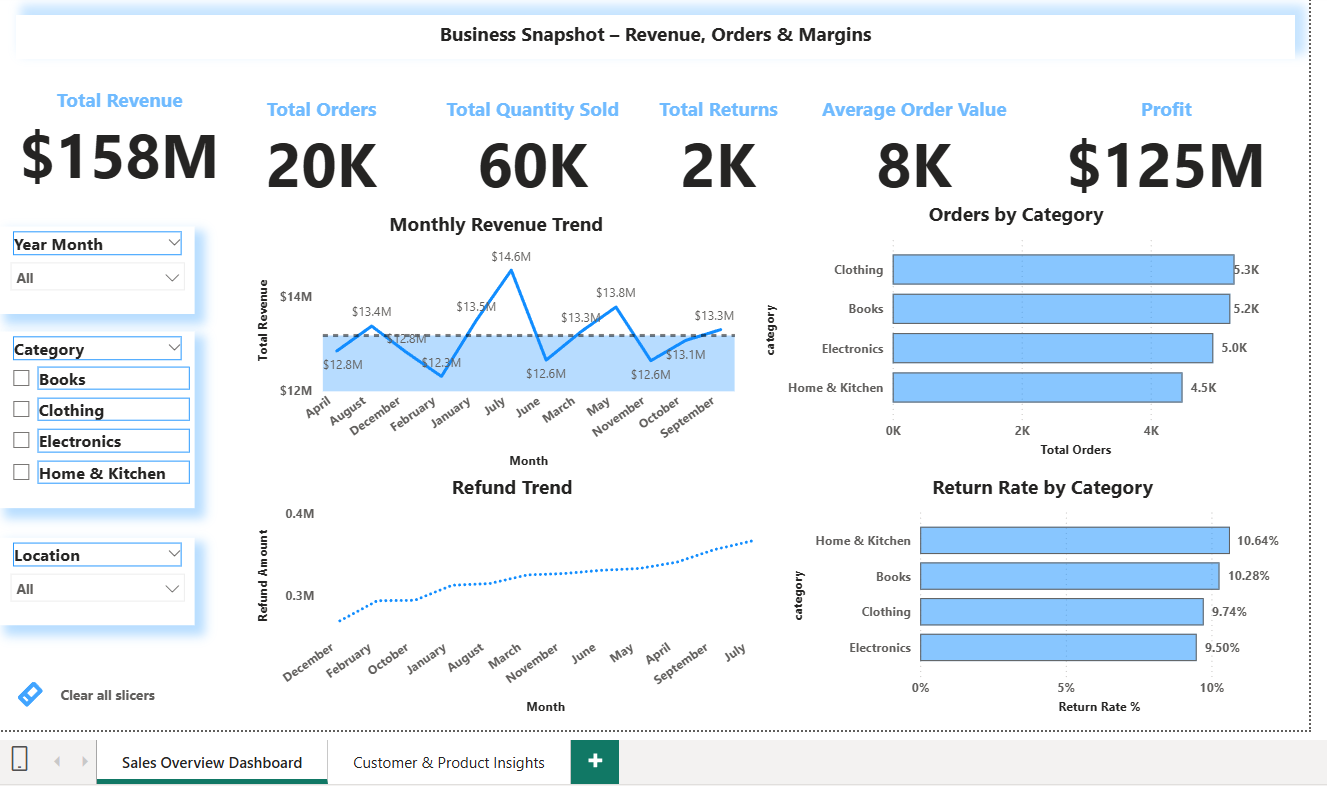

What the dashboard file says about the page in this screenshot:
{"tool":"powerbi","page":{"name":"Sales Overview Dashboard","canvas":[1280,720],"ordinal":0},"visuals":[{"type":"card","title":"Total Revenue","fields":{"Values":["Measure.Total Revenue"]},"box":[13.4,90.4,207.4,102.9],"z":0,"group":"g1"},{"type":"lineChart","title":"Monthly Revenue Trend","fields":{"Y":["Measure.Total Revenue"],"Category":["DateTable.Years Hierarchy.Month"]},"box":[246.9,211.6,476.8,257.4],"z":0},{"type":"card","title":"Total Returns","fields":{"Values":["Measure.Total Returns"]},"box":[616.2,99.3,173,102.5],"z":1000,"group":"g1"},{"type":"barChart","title":"Orders by Category","fields":{"Category":["products.category"],"Y":["Measure.Total Orders"]},"box":[743.5,201.8,501.4,256.8],"z":1000},{"type":"card","title":"Total Orders","fields":{"Values":["Measure.Total Orders"]},"box":[220.5,99.3,189,102.5],"z":2000,"group":"g1"},{"type":"barChart","title":"Return Rate by Category","fields":{"Category":["products.category"],"Y":["Measure.Return Rate %"]},"box":[770.8,469,499,240.4],"z":2000},{"type":"card","title":" Profit","fields":{"Values":["Measure.Profit"]},"box":[1016.7,99.3,249.9,102.5],"z":3000,"group":"g1"},{"type":"lineChart","title":"Refund Trend","fields":{"Category":["DateTable.Years Hierarchy.Month"],"Y":["Sum(returns.refund_amount)"]},"box":[246.9,469,508.2,240.4],"z":3000},{"type":"card","title":"Total Quantity Sold","fields":{"Values":["Measure.Total Quantity Sold"]},"box":[427.1,99.3,189,102.5],"z":4000,"group":"g1"},{"type":"slicer","fields":{"Values":["DateTable.Year-Month"]},"box":[0,227.4,190.8,85.6],"z":4000},{"type":"card","title":"Average Order Value","fields":{"Values":["Measure.Average Order Value"]},"box":[789.2,99.3,211.5,102.5],"z":5000,"group":"g1"},{"type":"slicer","fields":{"Values":["customers.location"]},"box":[0,531.9,190.8,85.6],"z":5000},{"type":"slicer","fields":{"Values":["products.category"]},"box":[0,330.2,190.8,172.4],"z":6000},{"type":"actionButton","box":[5.1,660.6,200.6,49.8],"z":7000},{"type":"textbox","box":[4.9,47.7,1246.1,31.8],"z":8000},{"type":"group","id":"g1","title":"KPIs","box":[13.4,90.4,1253.2,111.4],"z":9000}]}

Visuals, with their boxes on the page's 1280x720 design canvas (x1, y1, x2, y2). These are canvas units, not pixel positions in the 1327x786 screenshot, which may show the page scaled, cropped or inside an application window:
"Total Revenue" card: [13, 90, 221, 193]
"Monthly Revenue Trend" lineChart: [247, 212, 724, 469]
"Total Returns" card: [616, 99, 789, 202]
"Orders by Category" barChart: [744, 202, 1245, 459]
"Total Orders" card: [220, 99, 410, 202]
"Return Rate by Category" barChart: [771, 469, 1270, 709]
" Profit" card: [1017, 99, 1267, 202]
"Refund Trend" lineChart: [247, 469, 755, 709]
"Total Quantity Sold" card: [427, 99, 616, 202]
slicer - DateTable.Year-Month: [0, 227, 191, 313]
"Average Order Value" card: [789, 99, 1001, 202]
slicer - customers.location: [0, 532, 191, 618]
slicer - products.category: [0, 330, 191, 503]
actionButton: [5, 661, 206, 710]
textbox: [5, 48, 1251, 80]
"KPIs" group: [13, 90, 1267, 202]
